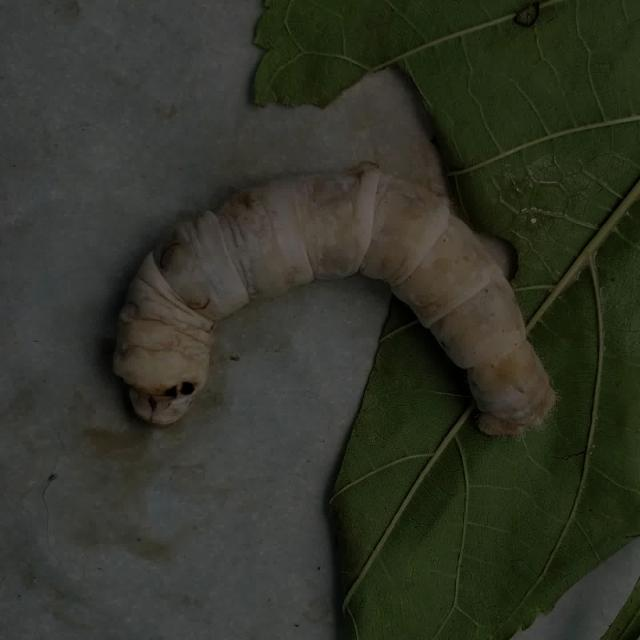Grasserie: (98, 146, 562, 464)
